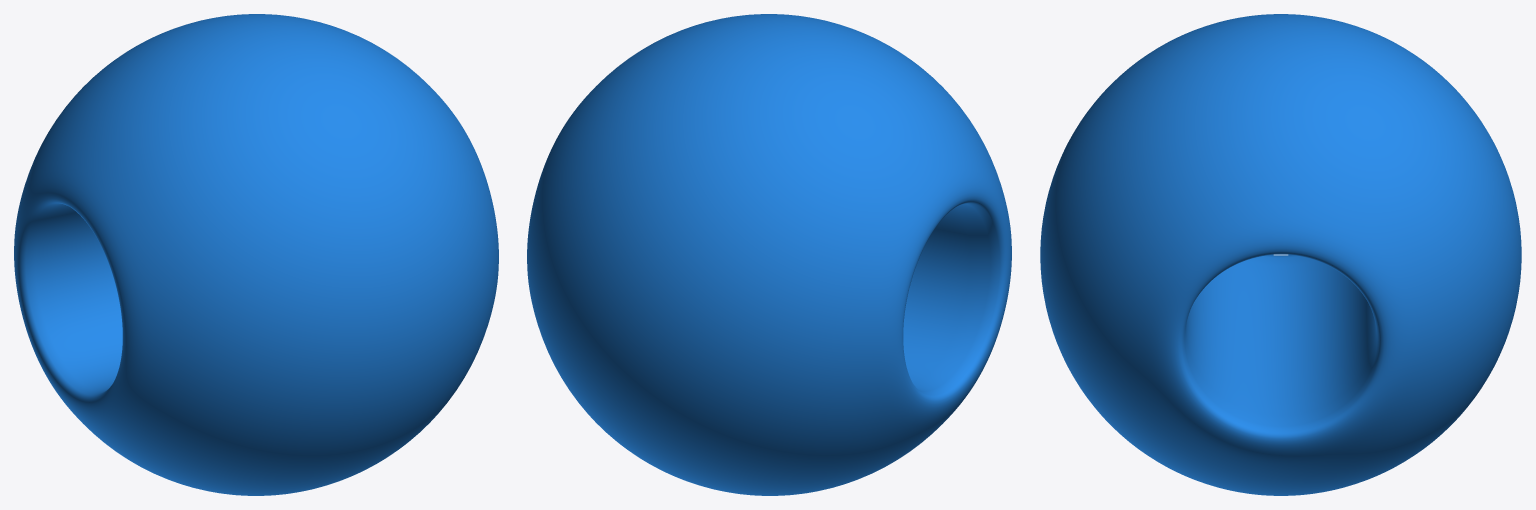
3 views of the same model, side by side, from view 1: azimuth 30°, elevation 25°; view 2: azimuth 150°, elevation 25°; view 3: azimuth 270°, elevation 25° (orthographic).
Visible parts, largest first — view 1: blue; view 2: blue; view 3: blue.
Boxes of the visible parts, x1=… form: blue: x1=14, y1=14, x2=498, y2=495; blue: x1=527, y1=14, x2=1011, y2=495; blue: x1=1040, y1=14, x2=1521, y2=495.
Size of the model in its own units: 1.75 by 1.97 by 1.97.
